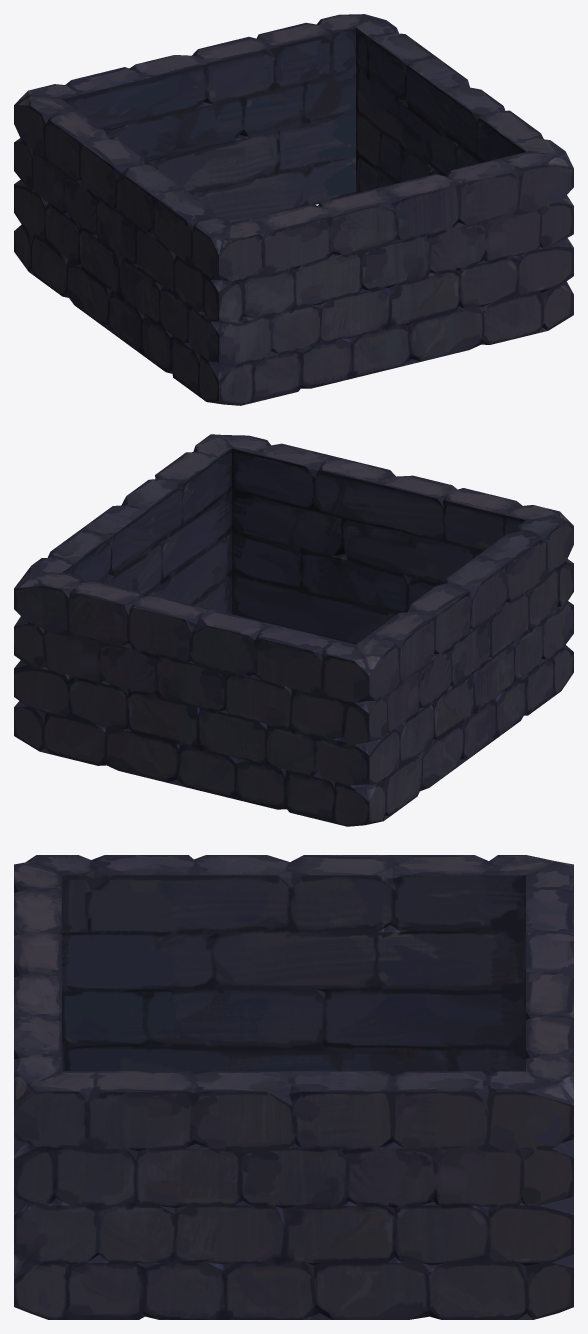
Rendered from Ruins14.fbx.
3 views of the same model, one above another, from view 1: azimuth 30°, elevation 25°; view 2: azimuth 150°, elevation 25°; view 3: azimuth 270°, elevation 25° (orthographic). The views are drawn at different scales.
Parts seen in each view (by area): view 1: Ruins14; view 2: Ruins14; view 3: Ruins14.
Boxes of the visible parts, x1,y1,x2,y2 form: Ruins14: [14, 14, 573, 405]; Ruins14: [14, 434, 573, 826]; Ruins14: [14, 855, 573, 1319].
Size of the model in its own units: 4.88 by 2.2 by 4.88.
1 material, 1 textured.
